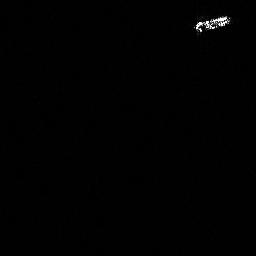ship: (191, 12, 234, 35)
